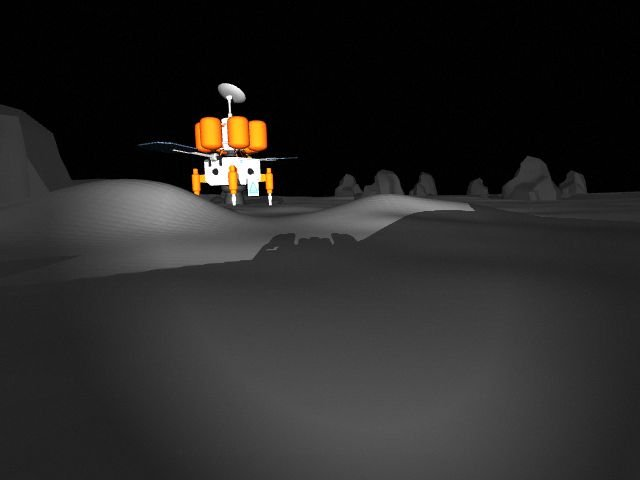homebase: (137, 79, 314, 211)
